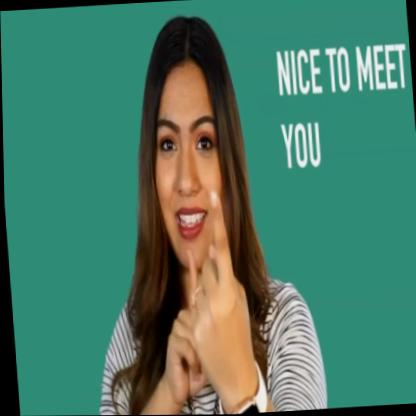NiceToMeetYou: (142, 184, 260, 410)
